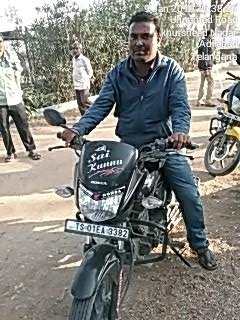plate: (65, 218, 132, 239)
